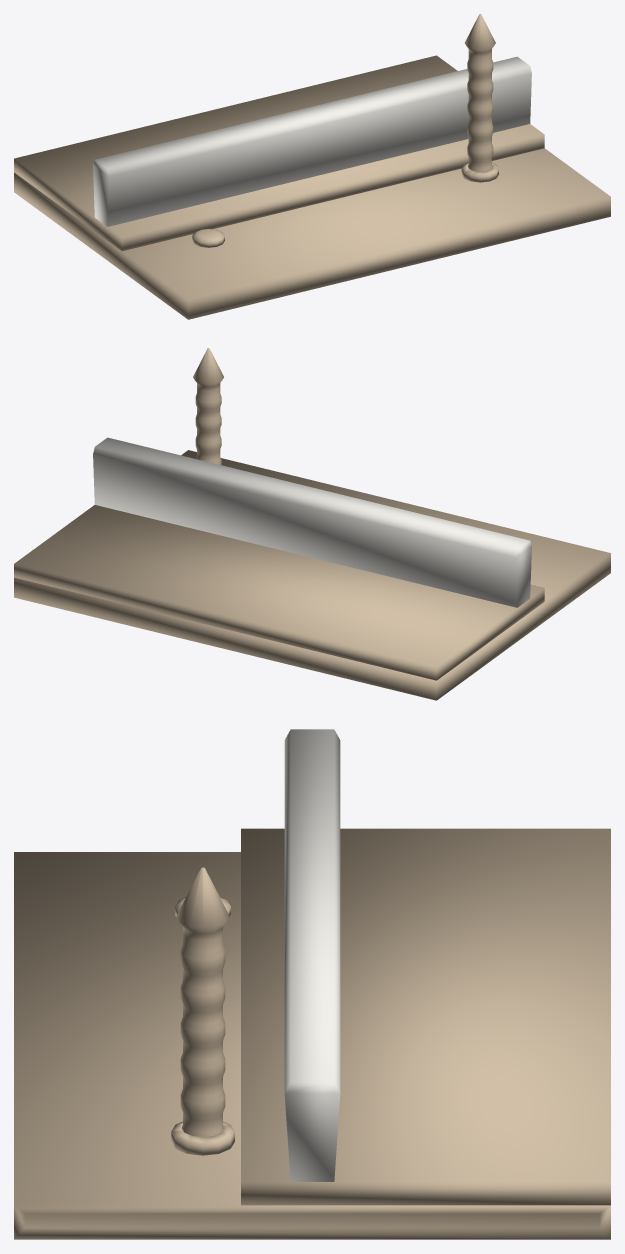
Rendered from doori-ghat.glb.
3 views of the same model, one above another, from view 1: azimuth 30°, elevation 25°; view 2: azimuth 150°, elevation 25°; view 3: azimuth 270°, elevation 25° (orthographic). The views are drawn at different scales.
Parts seen in each view (by area): view 1: GhatTop, Parapet, SurveyPillar, SchemaPillarBase; view 2: GhatTop, Parapet, SurveyPillar; view 3: GhatTop, Parapet, SurveyPillar.
Boxes of the visible parts, box(x1,y1,x2,y2) form: GhatTop: box(14, 55, 610, 319); Parapet: box(93, 56, 531, 226); SurveyPillar: box(461, 14, 498, 182); SchemaPillarBase: box(192, 229, 224, 247); GhatTop: box(14, 450, 610, 700); Parapet: box(93, 437, 531, 607); SurveyPillar: box(193, 348, 223, 465); GhatTop: box(14, 828, 610, 1239); Parapet: box(284, 729, 340, 1181); SurveyPillar: box(171, 867, 234, 1155).
Bounding box in the file's own units: 4.2 × 1.71 × 3.
